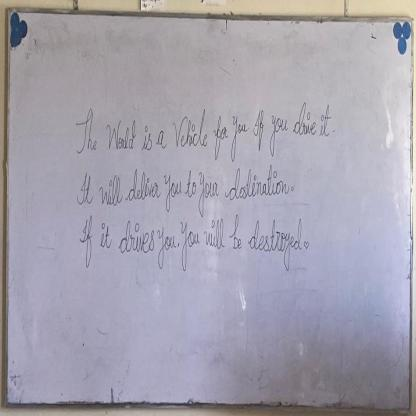Handwritten text: (70, 95, 333, 160), (77, 212, 305, 276), (76, 162, 290, 212)
Whiteboard: (4, 3, 413, 412)
